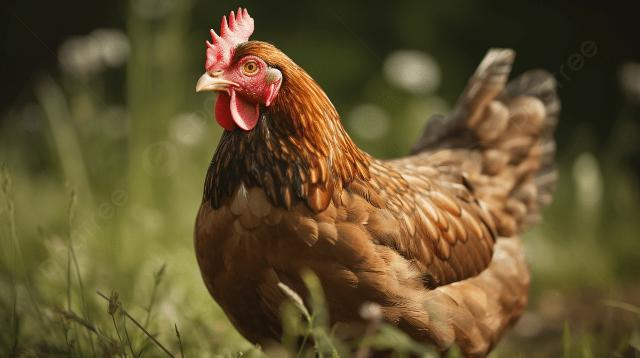Chicken: (194, 5, 545, 357)
